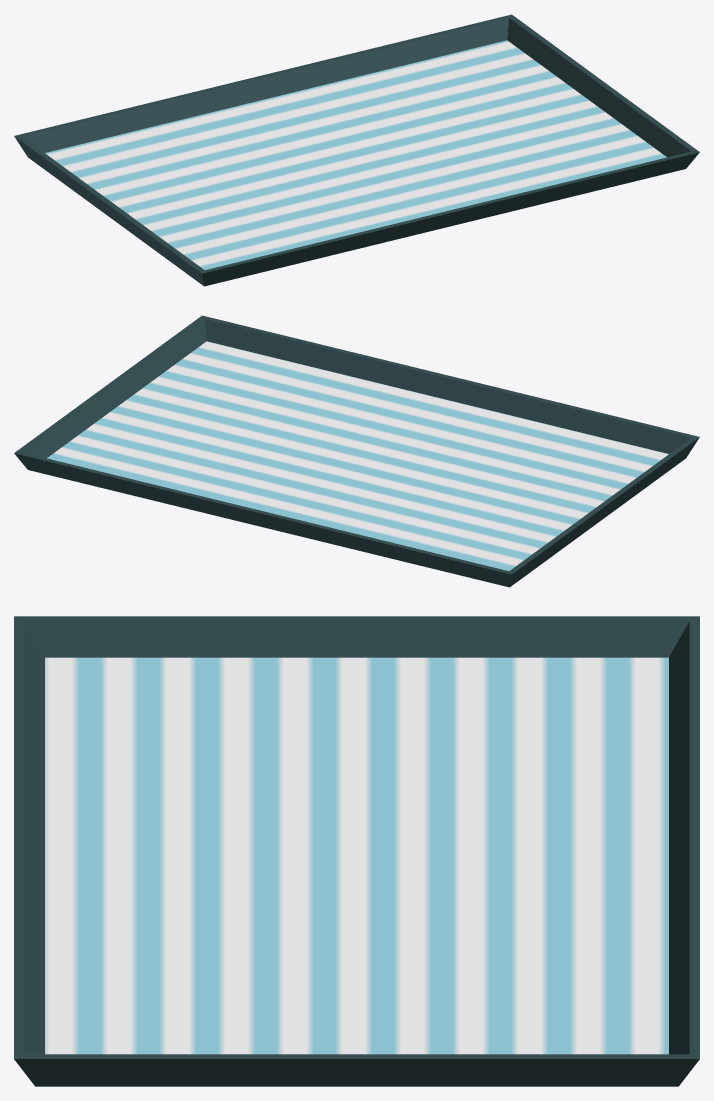
The model's file is Trey@Model.fbx.
3 renders of one model, top to bottom at view 1: azimuth 30°, elevation 25°; view 2: azimuth 150°, elevation 25°; view 3: azimuth 270°, elevation 25°, orthographic. The views are drawn at different scales.
Visible parts, largest first — view 1: pCube1; view 2: pCube1; view 3: pCube1.
Boxes of the visible parts, box(x1,y1,x2,y2) form: pCube1: box(14, 14, 699, 286); pCube1: box(14, 315, 699, 587); pCube1: box(14, 616, 699, 1086).
Size of the model in its own units: 2.05 by 0.0753 by 1.34.
